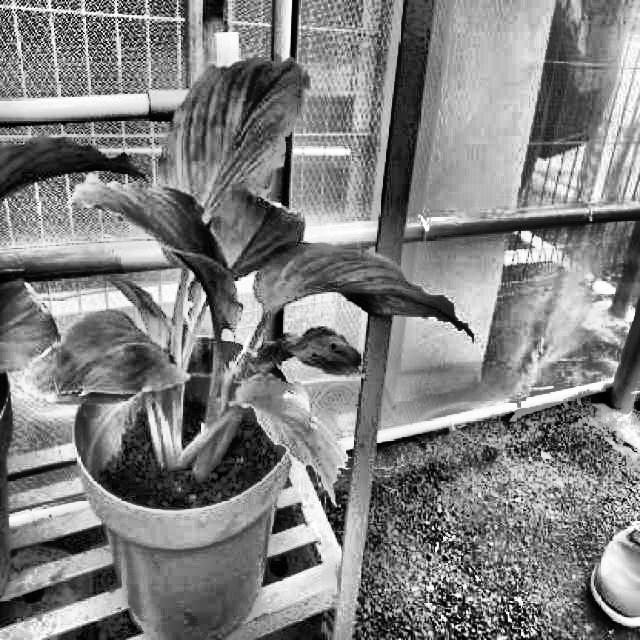plants: (0, 55, 477, 488)
